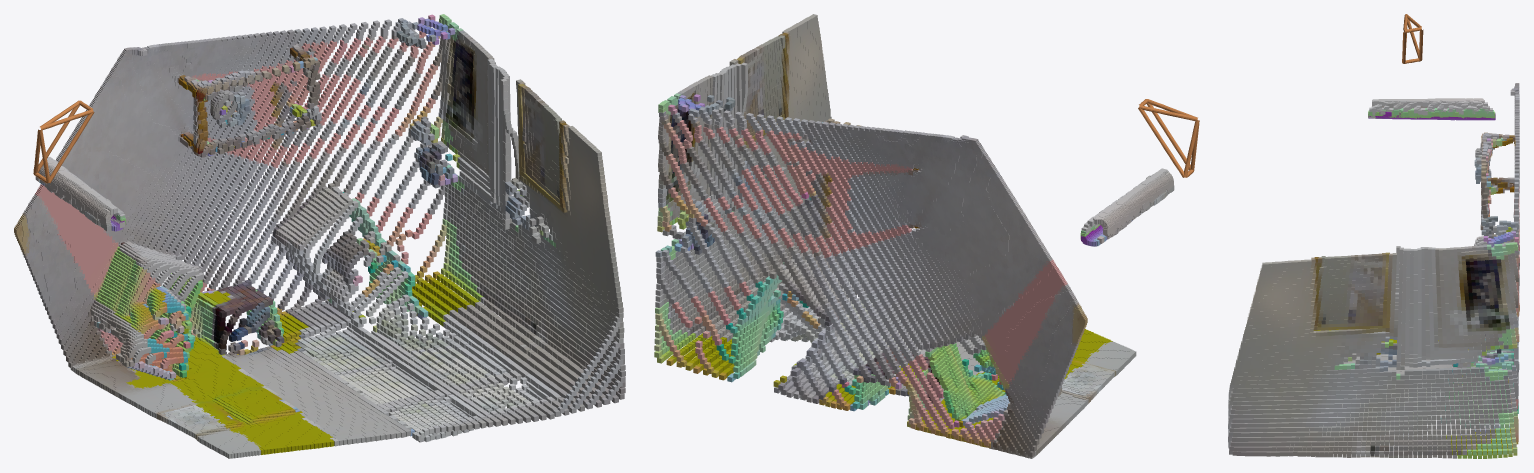
3 renders of one model, left to right at view 1: azimuth 30°, elevation 25°; view 2: azimuth 150°, elevation 25°; view 3: azimuth 270°, elevation 25°, orthographic. The views are drawn at different scales.
Bounding box in the file's own units: 5.3 × 3.49 × 3.42.
